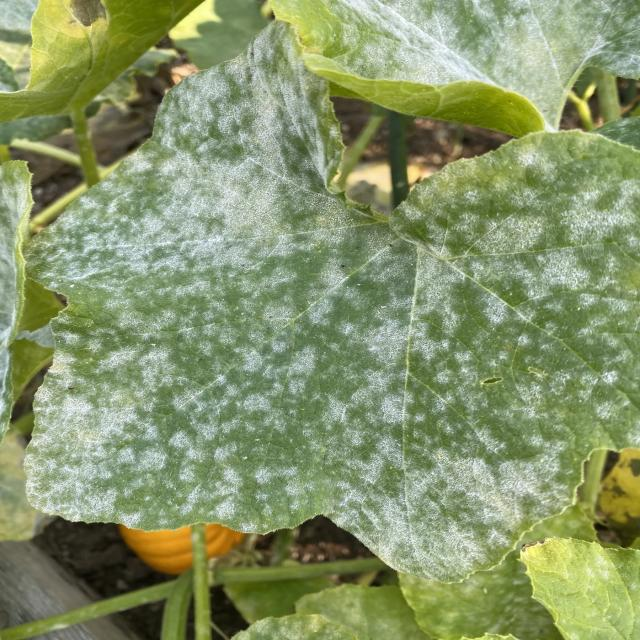Powdery Mildew: (19, 15, 638, 584)
